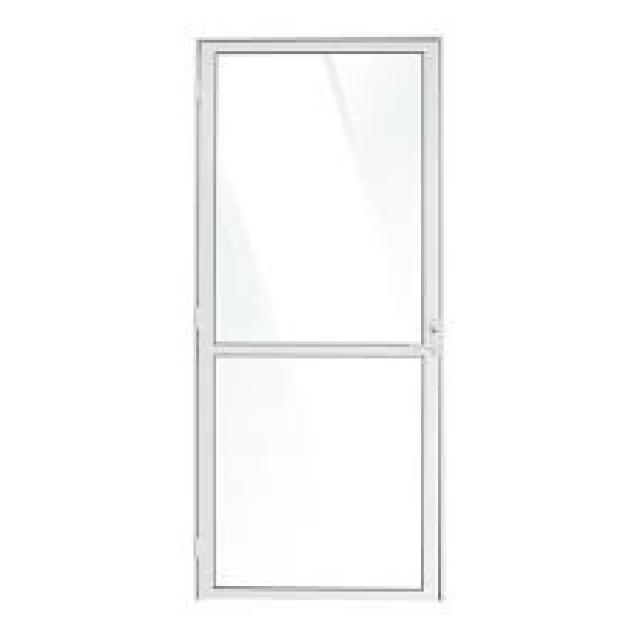door: (195, 36, 442, 598)
